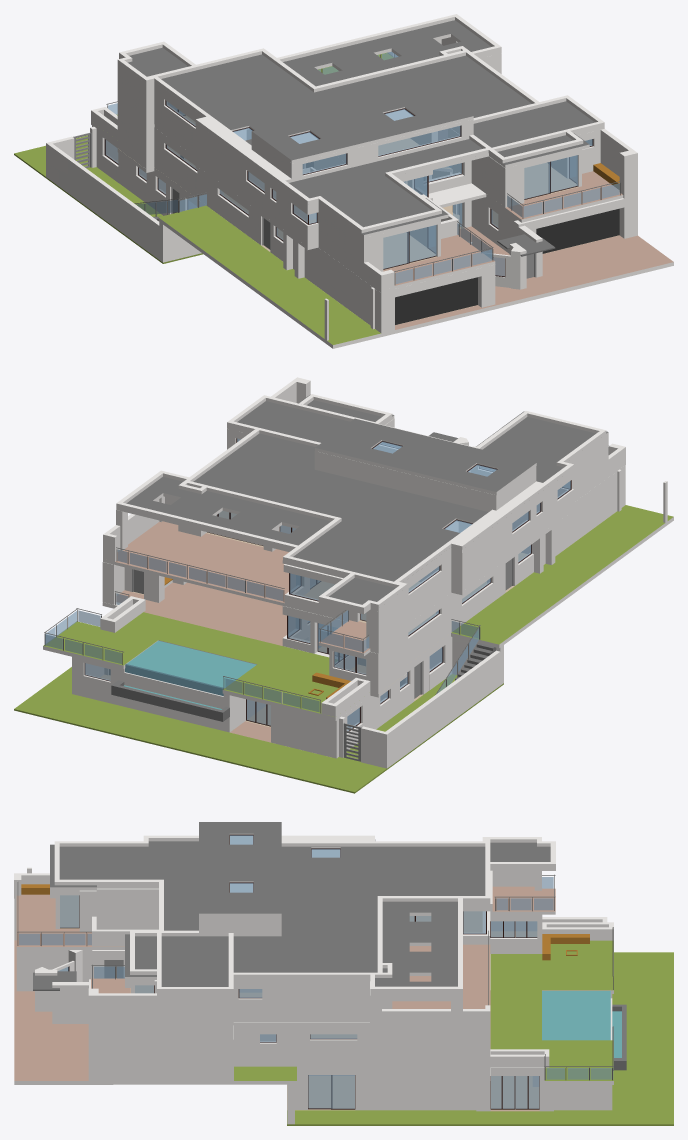
Rendered from 1FullHouse.glb.
3 renders of one model, top to bottom at view 1: azimuth 30°, elevation 25°; view 2: azimuth 150°, elevation 25°; view 3: azimuth 270°, elevation 25°, orthographic. The views are drawn at different scales.
Parts seen in each view (by area): view 1: Box060, Box058, Box056, Box059, Box241, Box001, Box028, Box050, Box041, Box174, Box045, Box051 (+27 smaller); view 2: Box060, Box058, Box057, Box056, Box059, Box001, Box241, Box050, Box002, Box028, Swimming_Pool, PoolSurface (+24 smaller); view 3: Box060, Box058, Box057, Box026, Box059, Box056, Box241, Box051, Box055, Box052, Box008, Box043 (+27 smaller).
Part boxes in pixels (box(x1,y1,x2,y2)): Box060: box(117, 20, 604, 237); Box058: box(91, 52, 673, 348); Box056: box(117, 46, 604, 233); Box059: box(117, 103, 637, 293); Box241: box(251, 87, 473, 163); Box001: box(46, 125, 201, 262); Box028: box(273, 232, 394, 333); Box050: box(164, 92, 264, 201); Box041: box(312, 205, 394, 290); Box174: box(395, 277, 477, 324); Box045: box(448, 128, 524, 207); Box051: box(577, 129, 637, 195); Box060: box(116, 394, 608, 614); Box058: box(43, 505, 673, 720); Box057: box(14, 667, 503, 793); Box056: box(178, 394, 606, 607); Box059: box(103, 462, 625, 656); Box001: box(271, 626, 503, 768); Box241: box(315, 418, 536, 495); Box050: box(408, 516, 512, 620); Box002: box(83, 666, 265, 732); Box028: box(518, 465, 625, 583); Swimming_Pool: box(125, 654, 256, 695); PoolSurface: box(126, 640, 251, 688); Box060: box(50, 839, 555, 995); Box058: box(14, 931, 613, 1084); Box057: box(287, 952, 673, 1125); Box026: box(88, 988, 490, 1080); Box059: box(14, 886, 555, 1039); Box056: box(54, 835, 541, 992); Box241: box(199, 822, 281, 916); Box051: box(88, 988, 233, 1036); Box055: box(262, 981, 392, 1021); Box052: box(370, 981, 490, 1036); Box008: box(355, 1070, 490, 1111); Box043: box(79, 888, 158, 931).
Size of the model in its own units: 22.69 by 9.6 by 36.79.
